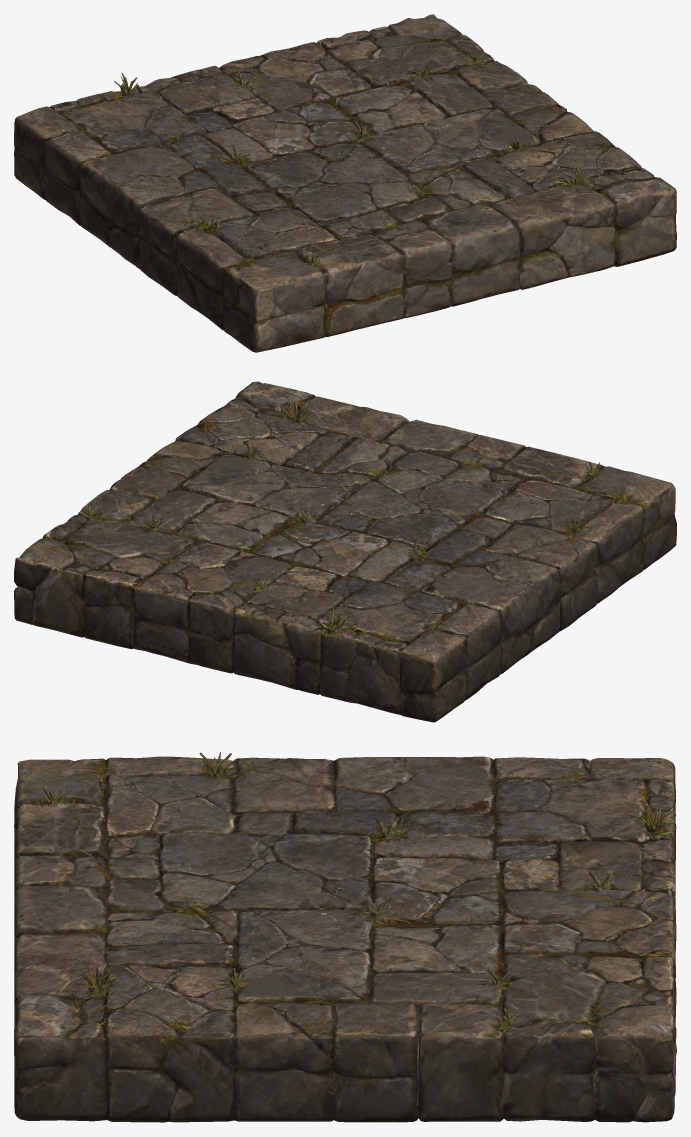
File: Dungeon_floor.glb
3 views of the same model, one above another, from view 1: azimuth 30°, elevation 25°; view 2: azimuth 150°, elevation 25°; view 3: azimuth 270°, elevation 25° (orthographic). The views are drawn at different scales.
Visible parts, largest first — view 1: YVO3D.obj; view 2: YVO3D.obj; view 3: YVO3D.obj.
Boxes of the visible parts, bbox=[...] form: YVO3D.obj: bbox=[14, 14, 676, 352]; YVO3D.obj: bbox=[14, 381, 676, 722]; YVO3D.obj: bbox=[14, 752, 676, 1122].
Size of the model in its own units: 0.9813 by 0.1948 by 0.9773.
Materials: 1 (1 with a texture image).
